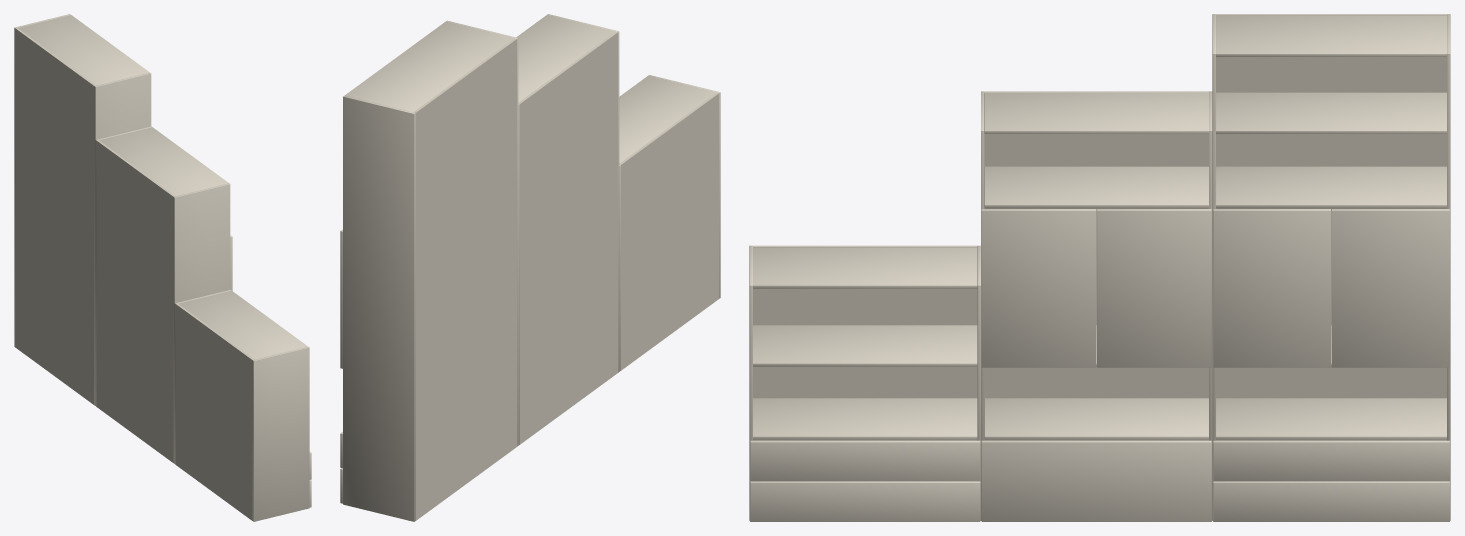
Rendered from rec6rSbAWp3SUQQrN.glb.
3 renders of one model, left to right at view 1: azimuth 30°, elevation 25°; view 2: azimuth 150°, elevation 25°; view 3: azimuth 270°, elevation 25°, orthographic. The views are drawn at different scales.
Parts seen in each view (by area): view 1: Bibliotheque_Corps; view 2: Bibliotheque_Corps; view 3: Bibliotheque_Corps.
Part boxes in pixels (x1,y1,x2,y2): Bibliotheque_Corps: [14, 14, 311, 521]; Bibliotheque_Corps: [340, 14, 720, 521]; Bibliotheque_Corps: [749, 14, 1450, 521].
Size of the model in its own units: 0.4499 by 2.36 by 3.21.
